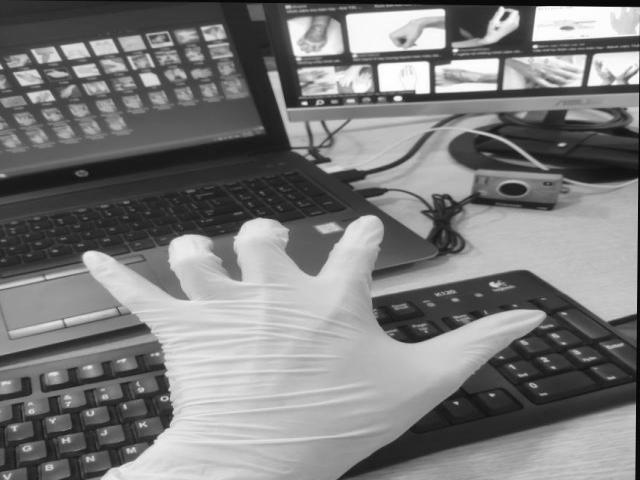gloved: (82, 215, 546, 469)
